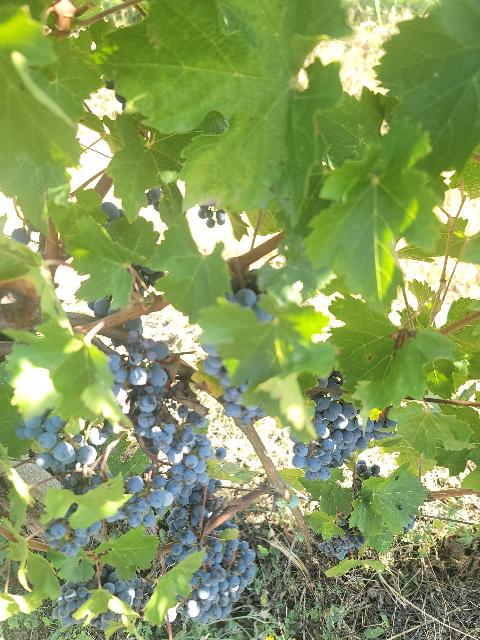grapes: (292, 392, 396, 481), (178, 541, 256, 624), (108, 475, 194, 528), (148, 424, 215, 486)
